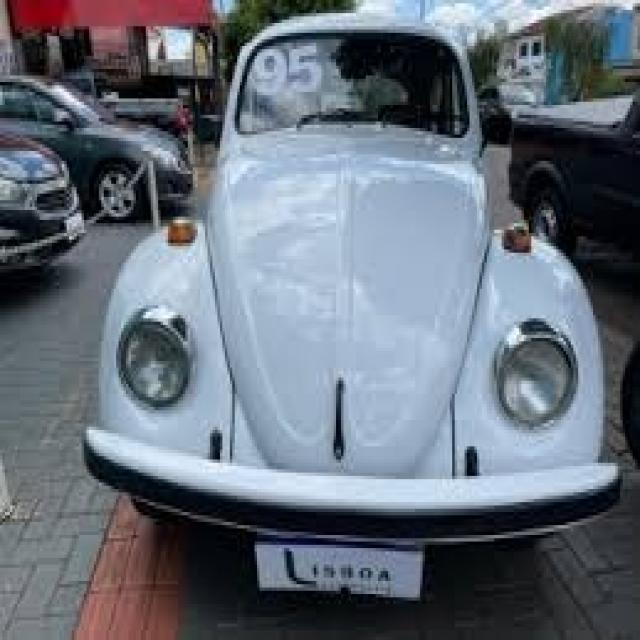0: (0, 71, 189, 219)
cars: (90, 10, 616, 632)
